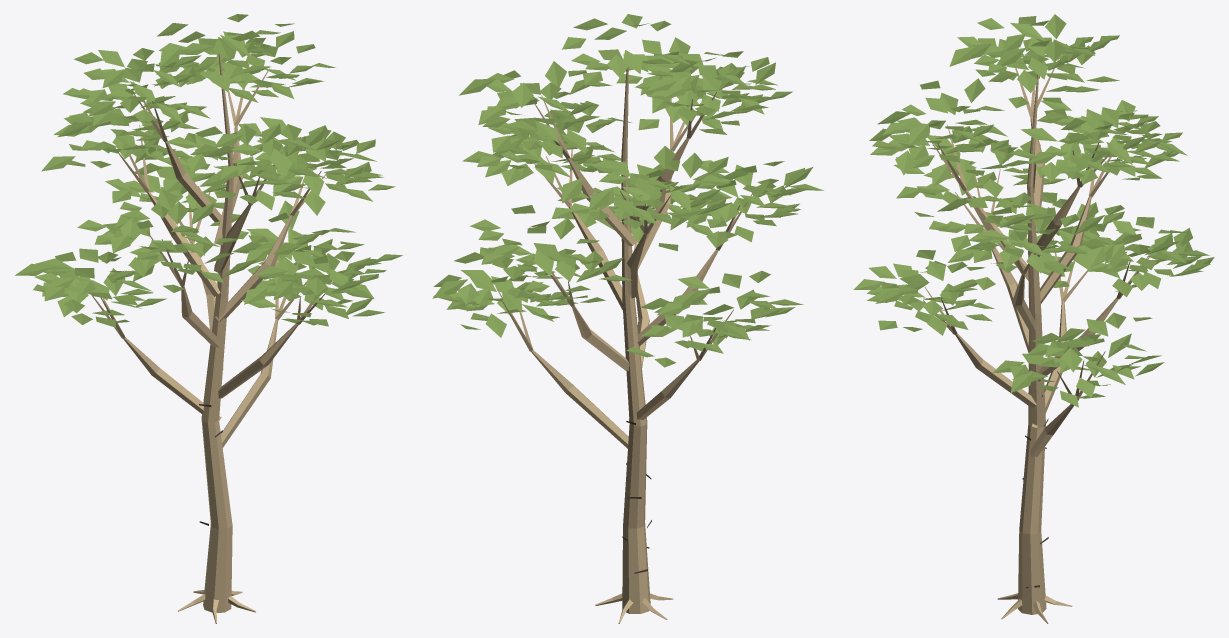
The model's file is birch.glb.
The picture shows the model from 3 angles, left to right: view 1: azimuth 30°, elevation 25°; view 2: azimuth 150°, elevation 25°; view 3: azimuth 270°, elevation 25°; orthographic projection. The views are drawn at different scales.
Parts seen in each view (by area): view 1: tree_birch_LOD0; view 2: tree_birch_LOD0; view 3: tree_birch_LOD0.
Part boxes in pixels (x1,y1,x2,y2): tree_birch_LOD0: (15,14,402,623); tree_birch_LOD0: (432,14,823,623); tree_birch_LOD0: (853,14,1214,623).
Bounding box in the file's own units: 7.76 × 12.54 × 7.32.
